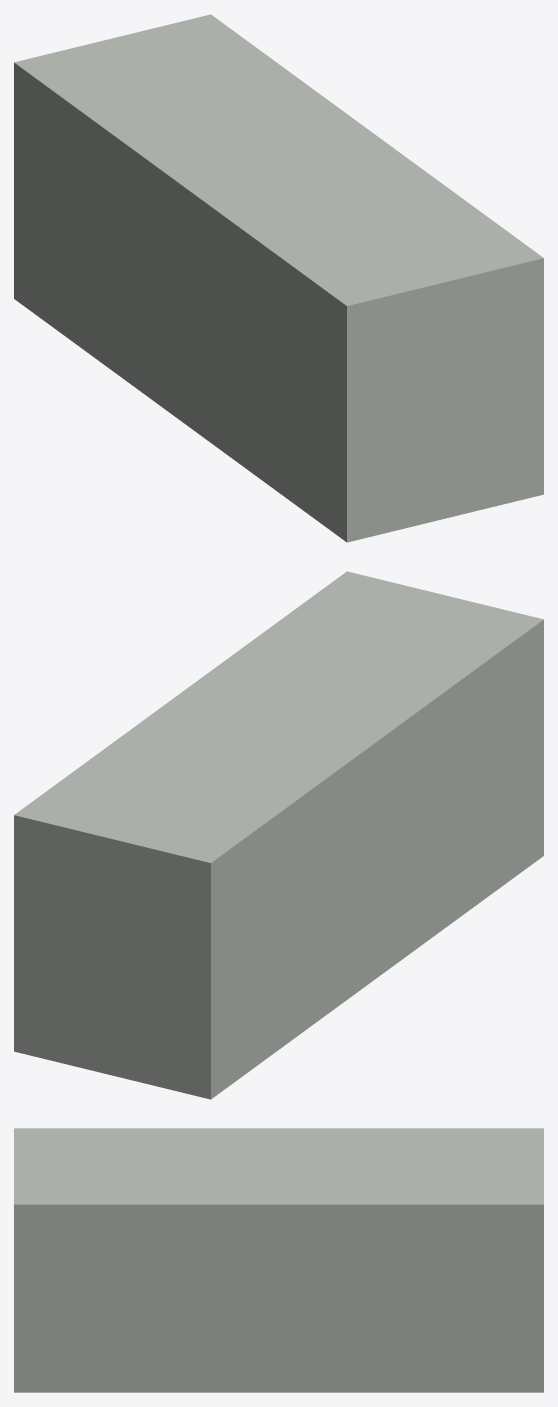
File: fbx_building_2_floor3.fbx
The picture shows the model from 3 angles, top to bottom: view 1: azimuth 30°, elevation 25°; view 2: azimuth 150°, elevation 25°; view 3: azimuth 270°, elevation 25°; orthographic projection. The views are drawn at different scales.
Visible parts, largest first — view 1: fbx_building_2_floor3; view 2: fbx_building_2_floor3; view 3: fbx_building_2_floor3.
Boxes of the visible parts, x1,y1,x2,y2 form: fbx_building_2_floor3: (14,14,543,542); fbx_building_2_floor3: (14,571,543,1099); fbx_building_2_floor3: (14,1128,543,1392).
Size of the model in its own units: 1.85 by 2.12 by 5.42.
Materials: 1 (1 with a texture image).
